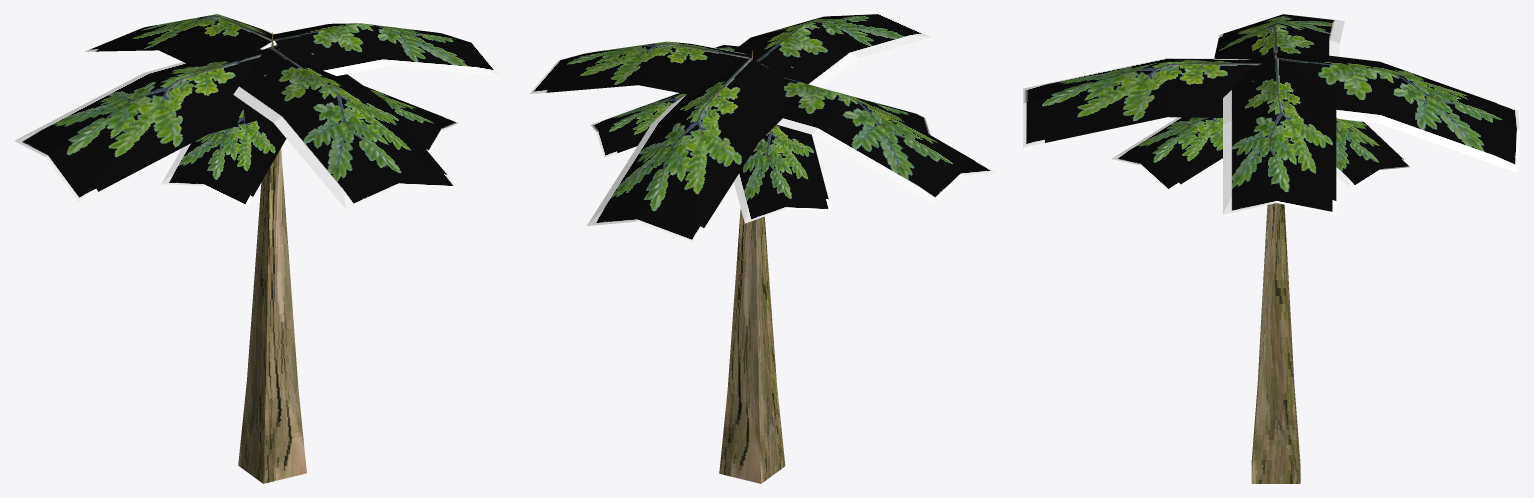
File: Tree_Sapling_A1.fbx
3 renders of one model, left to right at view 1: azimuth 30°, elevation 25°; view 2: azimuth 150°, elevation 25°; view 3: azimuth 270°, elevation 25°, orthographic. The views are drawn at different scales.
Parts seen in each view (by area): view 1: Tree_Sapling_A1; view 2: Tree_Sapling_A1; view 3: Tree_Sapling_A1.
Part boxes in pixels (left/top/right/bottom): Tree_Sapling_A1: left=14, top=14, right=500, bottom=483; Tree_Sapling_A1: left=529, top=14, right=994, bottom=483; Tree_Sapling_A1: left=1023, top=14, right=1519, bottom=483.
Size of the model in its own units: 0.7562 by 0.7462 by 0.7877.
